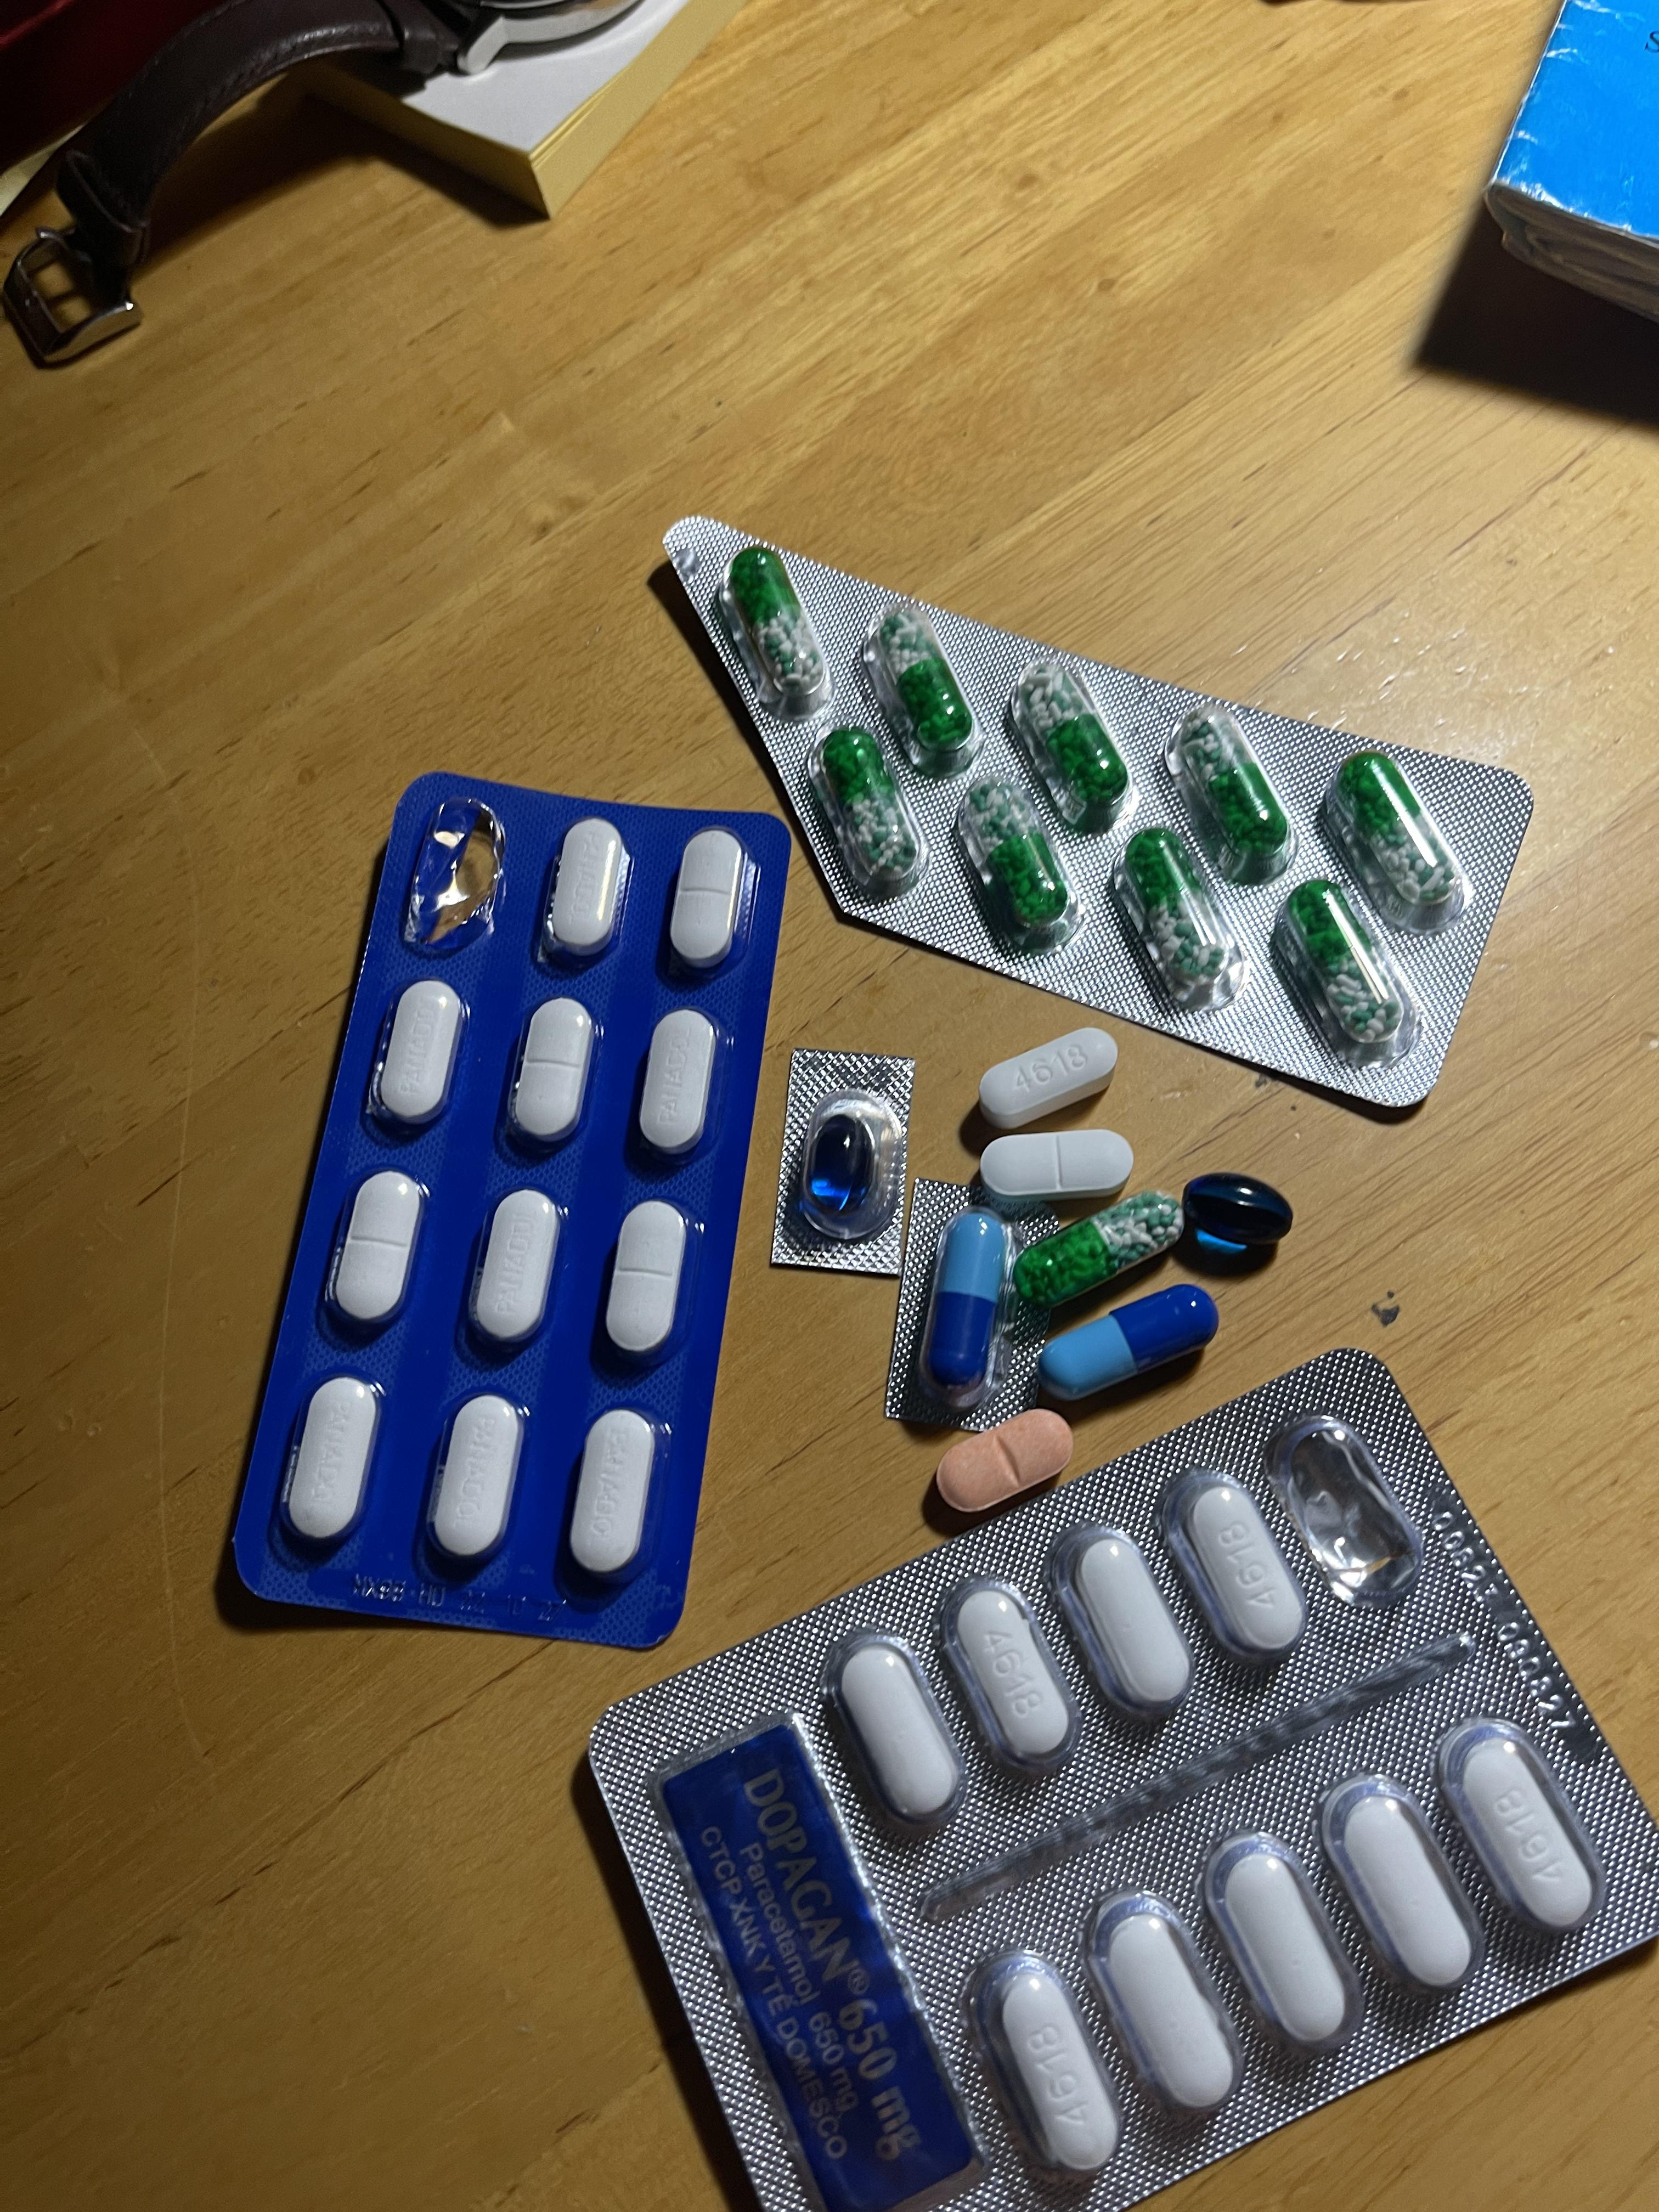Lincomyxin_500mg: (1183, 1170, 1293, 1268), (805, 1113, 873, 1216)
Loratadine_10mg: (936, 1416, 1075, 1514)
Paracetamol_350mg: (282, 1374, 380, 1547), (427, 1397, 525, 1568), (566, 1407, 659, 1580), (329, 1169, 425, 1332), (469, 1190, 563, 1352), (605, 1200, 690, 1364), (375, 979, 465, 1130), (979, 1129, 1134, 1214), (509, 998, 596, 1150), (636, 1008, 720, 1160), (545, 820, 629, 961), (671, 829, 746, 968)
Paracetamol_500mg: (1314, 1773, 1483, 2006), (1199, 1829, 1363, 2064), (1155, 1465, 1312, 1672), (1047, 1517, 1199, 1721), (824, 1629, 964, 1839), (938, 1575, 1080, 1780), (1100, 1902, 1232, 2107), (1455, 1740, 1591, 1932), (985, 1965, 1110, 2170), (978, 1029, 1122, 1127)
Paracetamol_650mg: (1012, 1188, 1180, 1312), (1283, 885, 1403, 1040), (964, 780, 1072, 948), (1344, 758, 1459, 906), (1122, 831, 1225, 996), (1019, 665, 1124, 824), (732, 547, 830, 712), (823, 728, 918, 881), (1182, 712, 1279, 859), (880, 611, 969, 751)
pill: (1039, 1284, 1216, 1407), (918, 1207, 1011, 1407)
